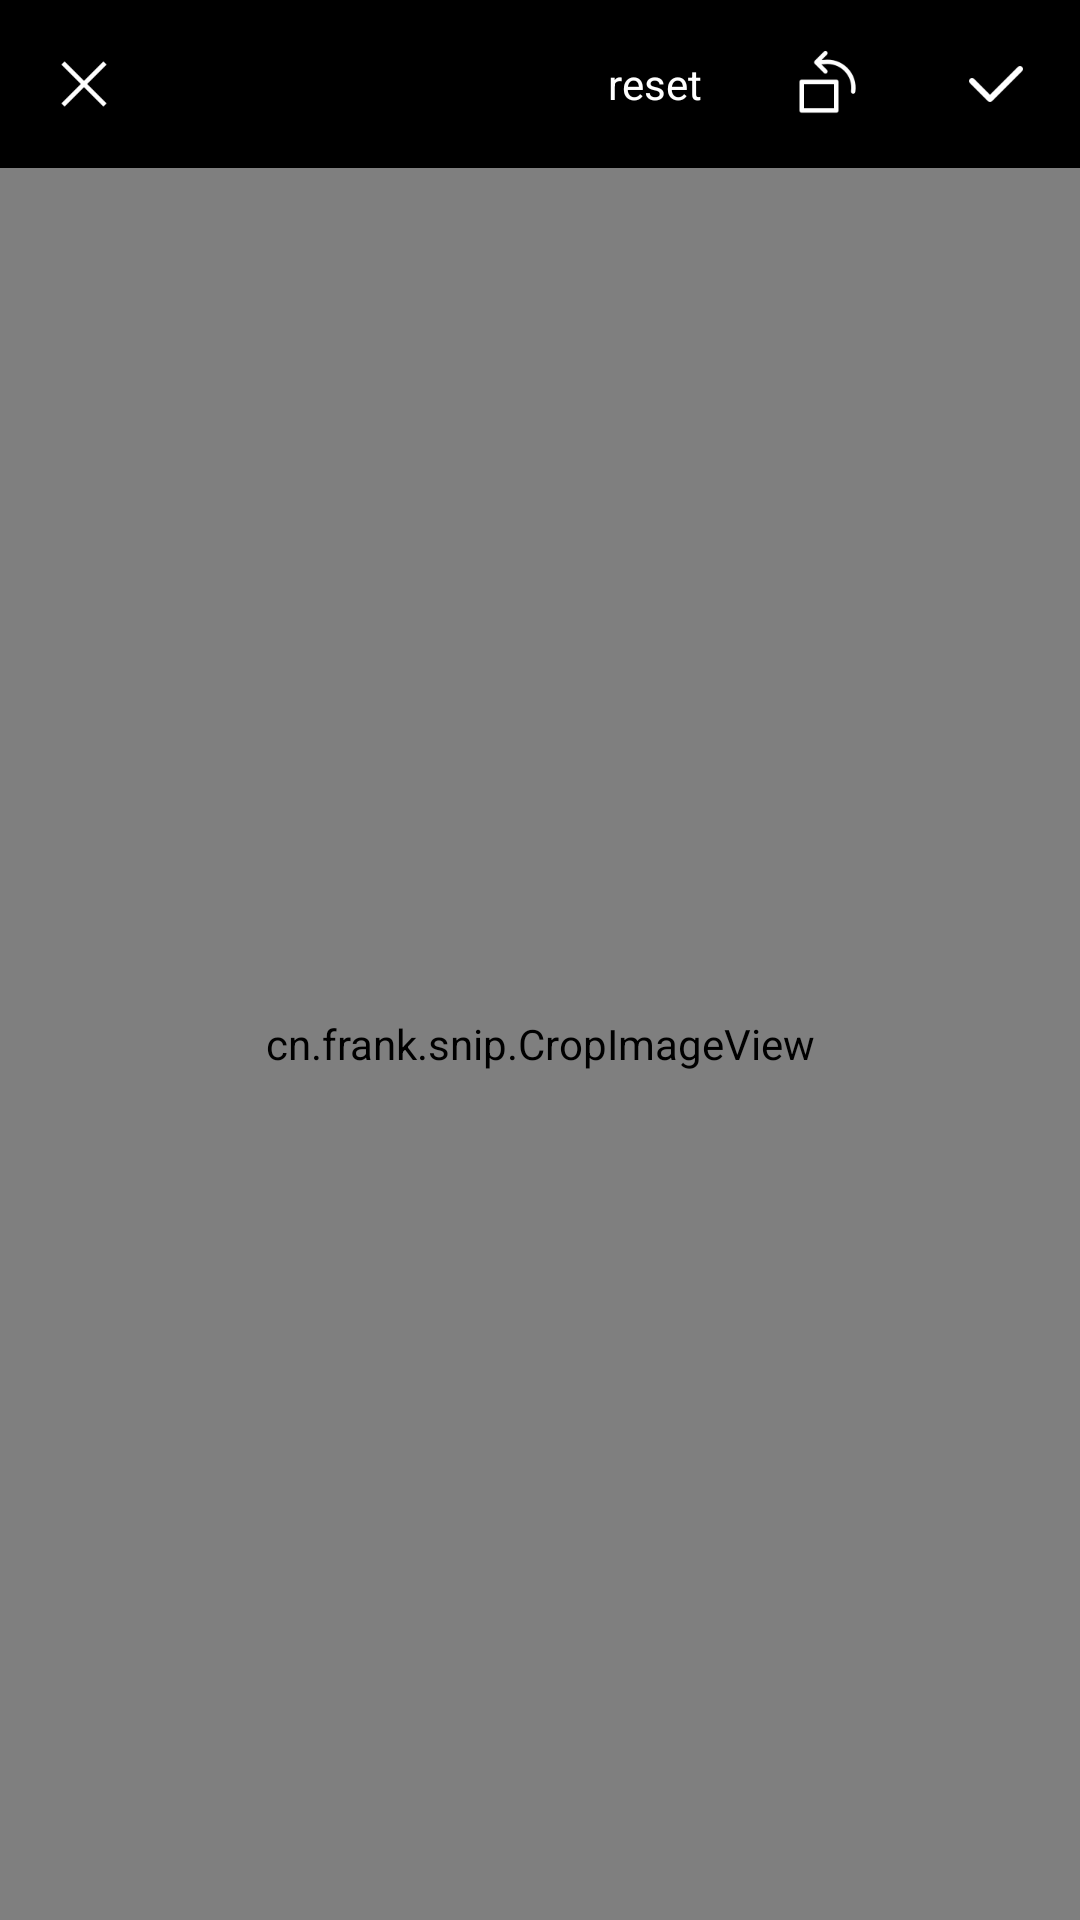

Icons on this 1080 x 1920 Android screen, each with its box as [x1=x1, y1=y1, x2=x2, y2=y2]:
close: [x1=61, y1=61, x2=107, y2=107]
counter clockwise: [x1=799, y1=51, x2=856, y2=113]
crop confirm: [x1=969, y1=66, x2=1023, y2=102]
